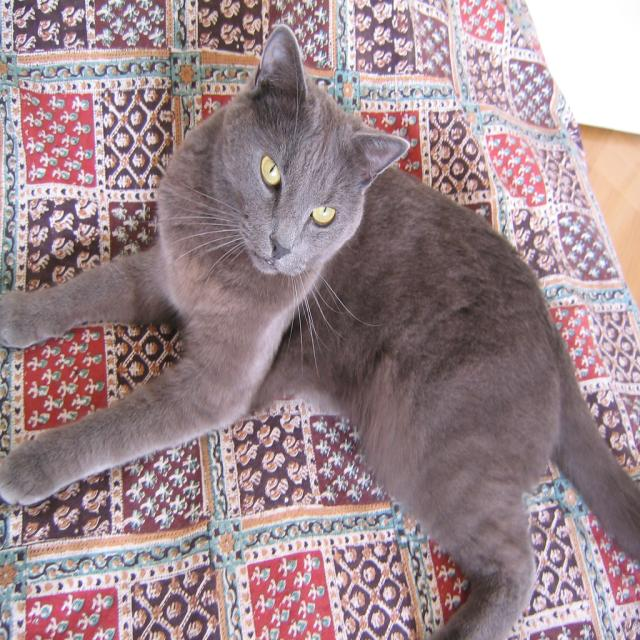cat: (2, 24, 640, 640)
